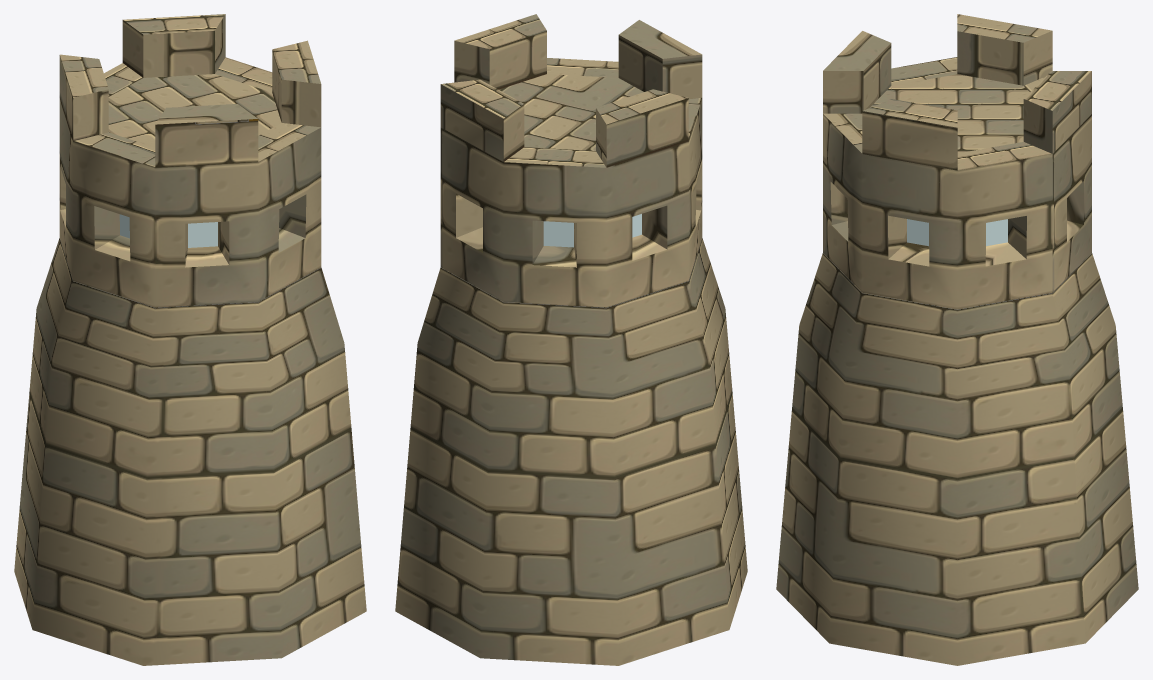
File: LightHouse.fbx
3 views of the same model, side by side, from view 1: azimuth 30°, elevation 25°; view 2: azimuth 150°, elevation 25°; view 3: azimuth 270°, elevation 25° (orthographic).
Parts seen in each view (by area): view 1: Cylinder004; view 2: Cylinder004; view 3: Cylinder004.
Part boxes in pixels (box(x1,y1,x2,y2)): Cylinder004: box(14, 14, 366, 665); Cylinder004: box(395, 14, 747, 665); Cylinder004: box(776, 14, 1138, 665).
Bounding box in the file's own units: 38.42 × 60.65 × 38.42.
